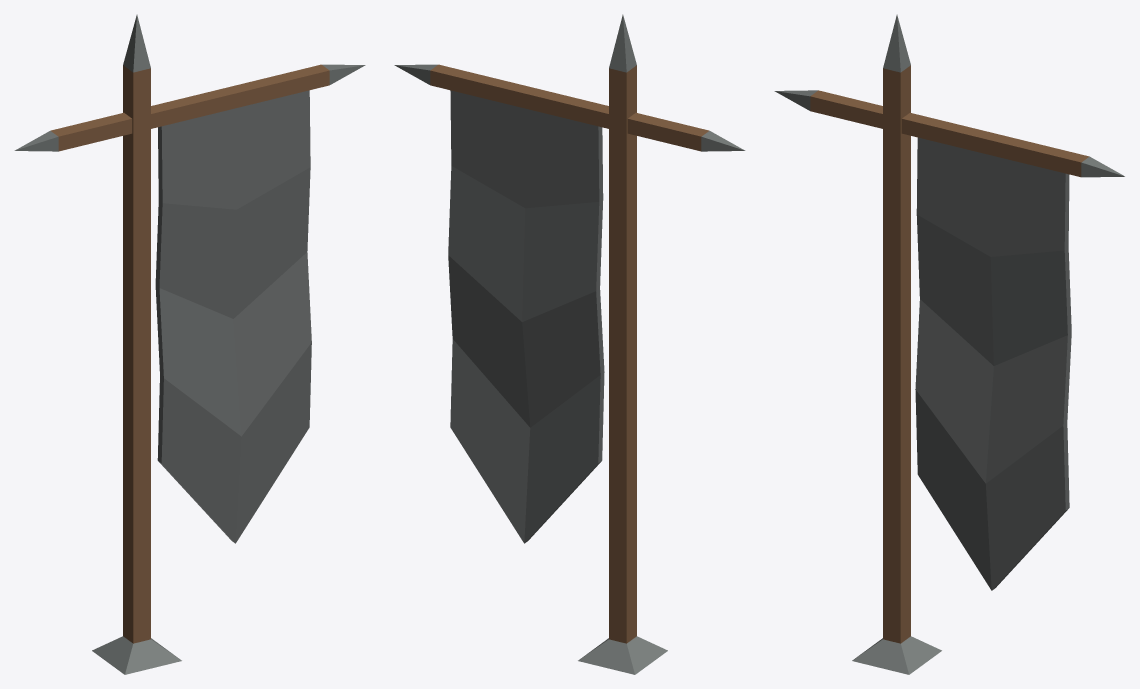
The model's file is Banner_1_Gray.fbx.
The picture shows the model from 3 angles, left to right: view 1: azimuth 30°, elevation 25°; view 2: azimuth 150°, elevation 25°; view 3: azimuth 330°, elevation 25°; orthographic projection.
Parts seen in each view (by area): view 1: Banner_1_Gray_Part_3, Banner_1_Gray_Part_1, Banner_1_Gray_Part_2; view 2: Banner_1_Gray_Part_3, Banner_1_Gray_Part_1, Banner_1_Gray_Part_2; view 3: Banner_1_Gray_Part_3, Banner_1_Gray_Part_1, Banner_1_Gray_Part_2.
Part boxes in pixels (box(x1,y1,x2,y2)): Banner_1_Gray_Part_3: box(155, 90, 311, 543); Banner_1_Gray_Part_1: box(50, 64, 329, 643); Banner_1_Gray_Part_2: box(14, 14, 365, 674); Banner_1_Gray_Part_3: box(448, 90, 604, 543); Banner_1_Gray_Part_1: box(430, 64, 709, 643); Banner_1_Gray_Part_2: box(394, 14, 745, 674); Banner_1_Gray_Part_3: box(915, 137, 1071, 590); Banner_1_Gray_Part_1: box(810, 65, 1089, 643); Banner_1_Gray_Part_2: box(774, 14, 1124, 674).
Bounding box in the file's own units: 172 × 300 × 28.14.
